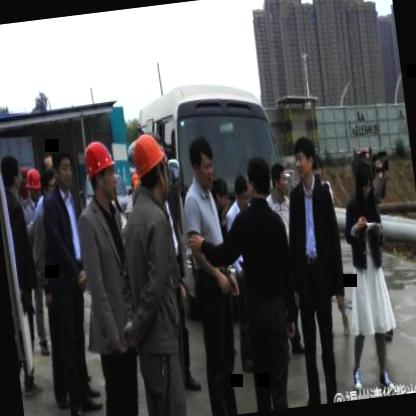head: (240, 153, 274, 208), (184, 135, 216, 192), (290, 135, 323, 188), (48, 144, 76, 192), (0, 148, 24, 203), (352, 158, 378, 207), (208, 173, 232, 219), (231, 172, 253, 222), (268, 160, 290, 203)
helmet: (129, 128, 172, 204), (80, 135, 122, 211), (24, 164, 44, 204)
